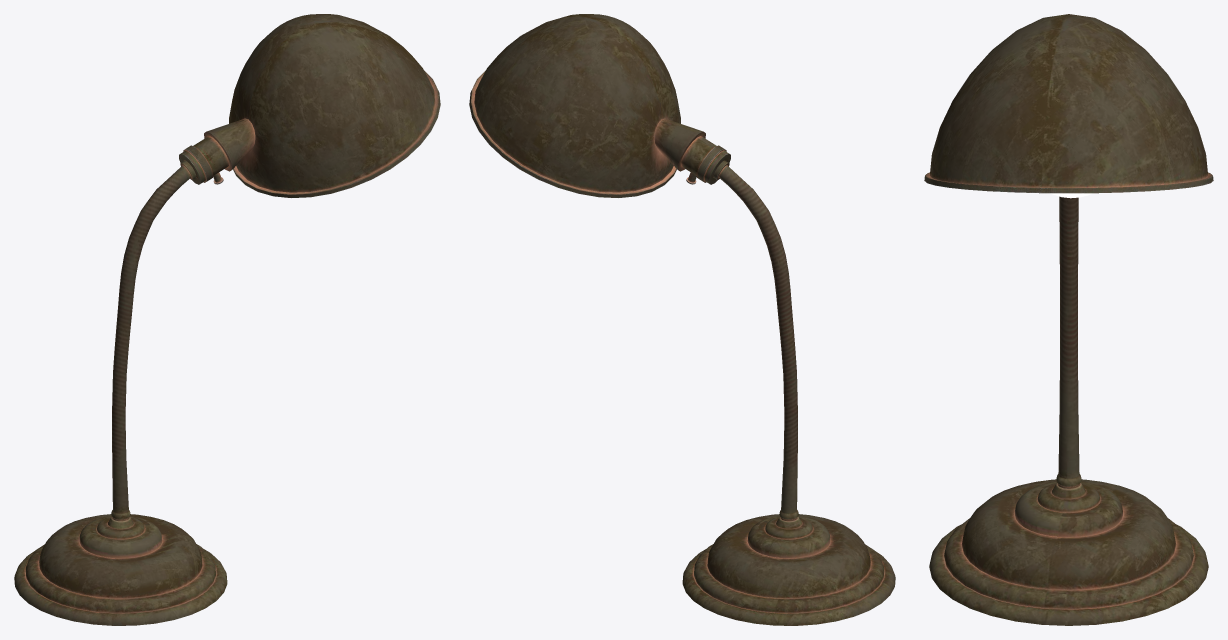
File: desklamp.fbx
The picture shows the model from 3 angles, left to right: view 1: azimuth 30°, elevation 25°; view 2: azimuth 150°, elevation 25°; view 3: azimuth 270°, elevation 25°; orthographic projection. The views are drawn at different scales.
Visible parts, largest first — view 1: defaultMaterial.002, defaultMaterial.003; view 2: defaultMaterial.002, defaultMaterial.003; view 3: defaultMaterial.002, defaultMaterial.003.
Part boxes in pixels (x1,y1,x2,y2): defaultMaterial.002: (179,14,440,197); defaultMaterial.003: (14,160,227,625); defaultMaterial.002: (469,14,730,197); defaultMaterial.003: (682,160,895,625); defaultMaterial.002: (924,14,1213,193); defaultMaterial.003: (929,196,1208,625).
Size of the model in its own units: 216 by 267 by 104.
1 material, 1 textured.
